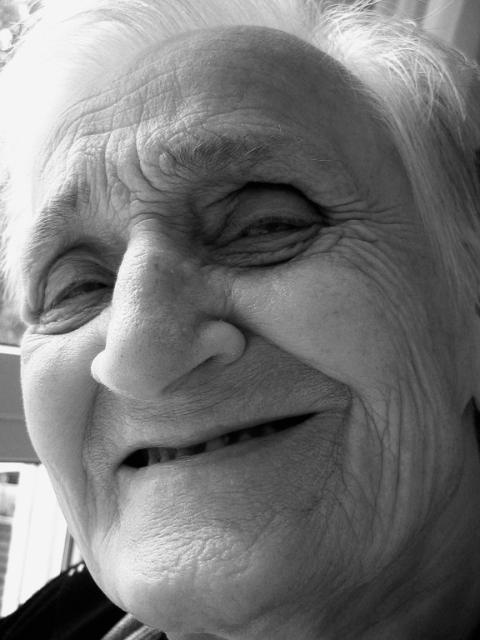chin: (332, 465, 366, 519)
crows_feet: (323, 202, 373, 252)
forehead: (167, 114, 223, 142), (223, 97, 277, 125), (70, 108, 110, 144), (122, 108, 150, 142)
frown_line: (118, 203, 172, 233), (130, 150, 160, 194), (95, 164, 127, 204)
gummy_smile: (256, 328, 332, 378), (72, 391, 110, 451)
masseter: (382, 416, 416, 504), (398, 334, 440, 404)
sad_smile: (342, 378, 376, 438)
